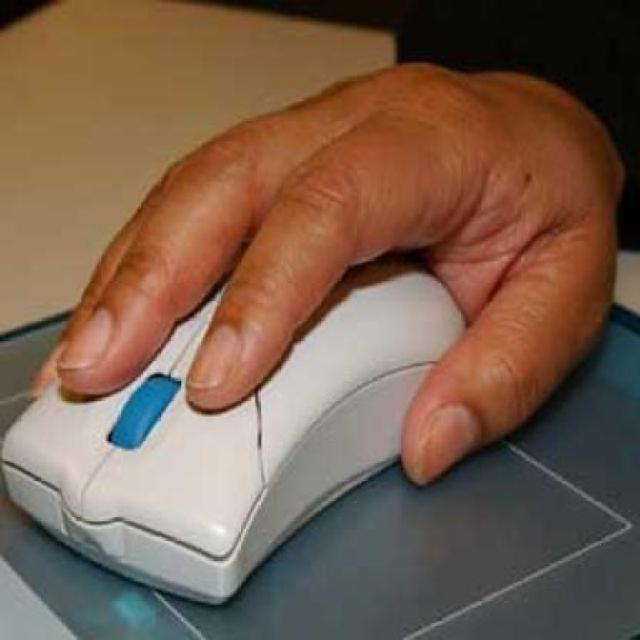not trash: (6, 252, 486, 608)
